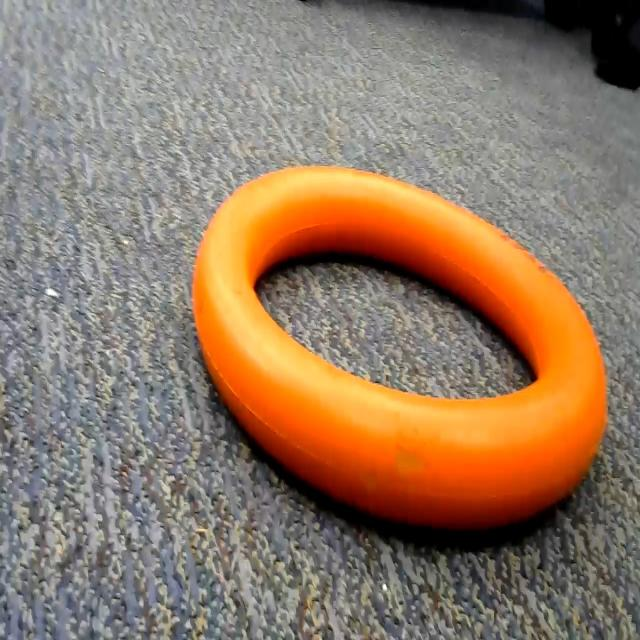note: (190, 159, 621, 561)
